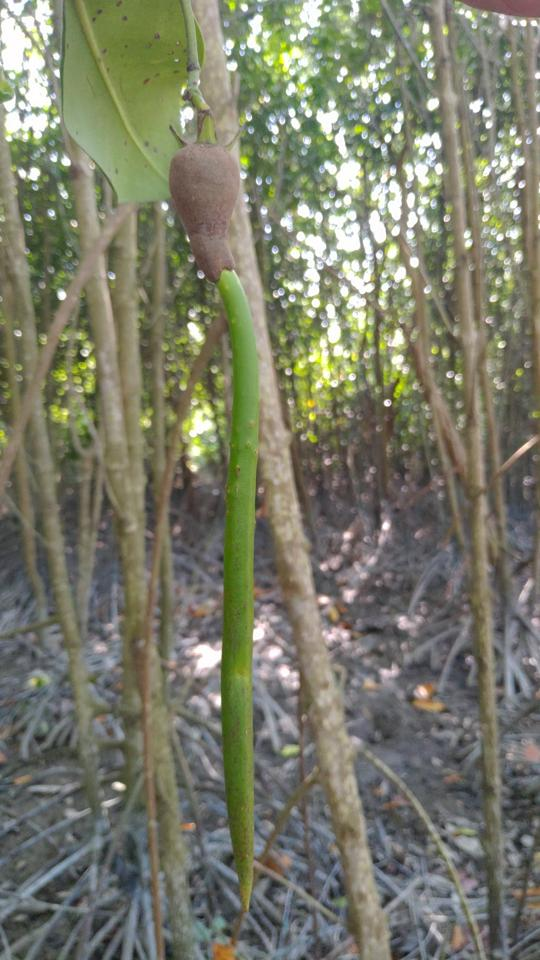mentah: (152, 112, 298, 929)
